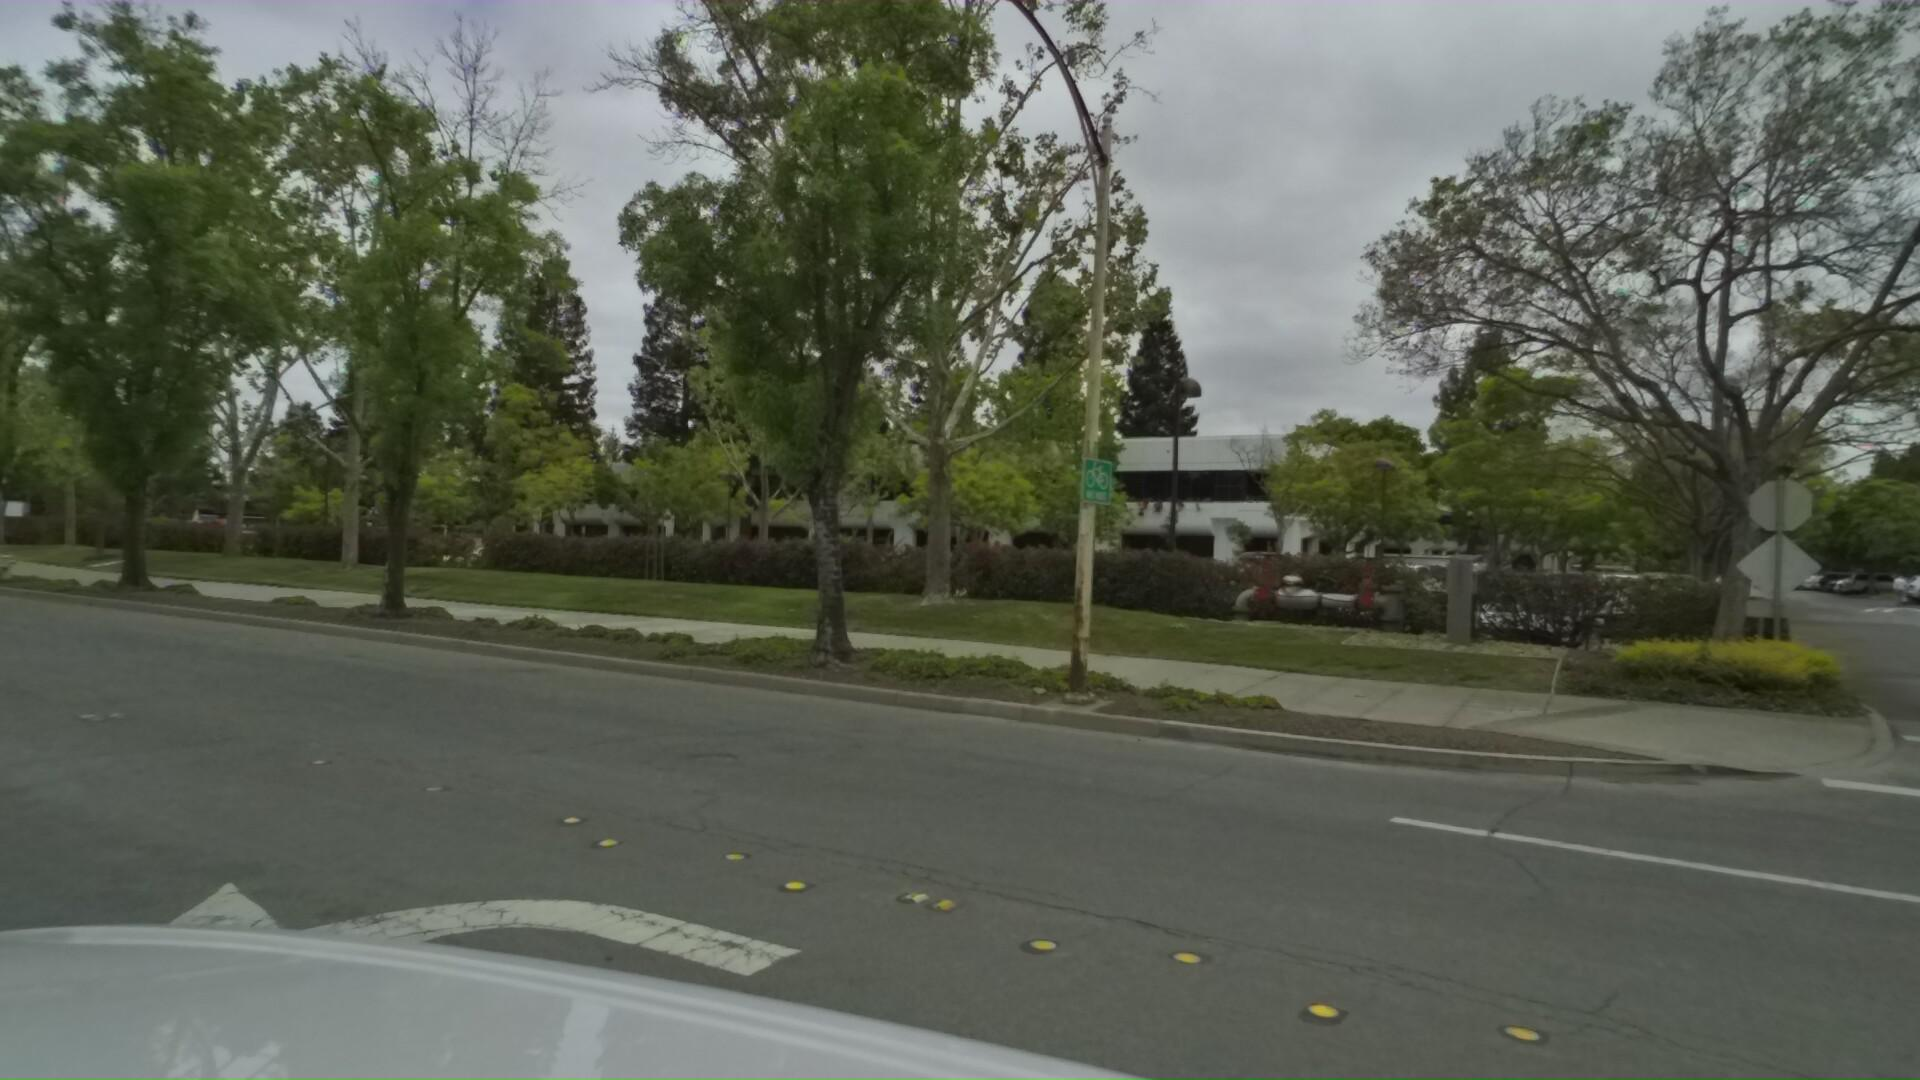car: (1903, 584, 1920, 785)
